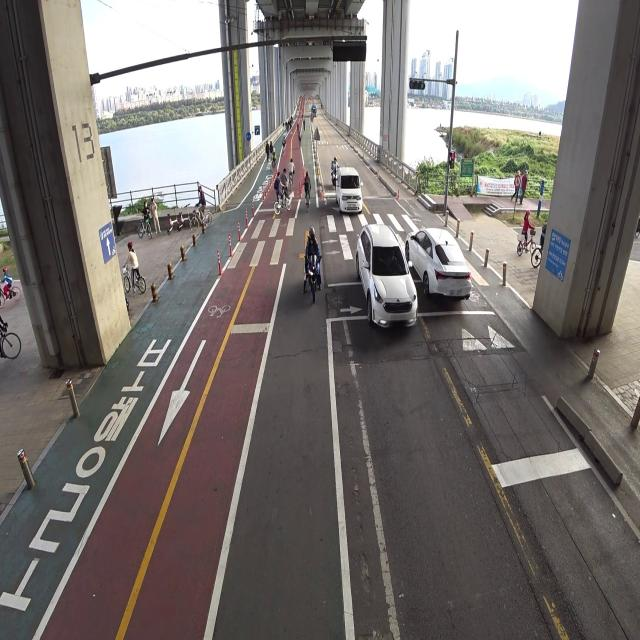Bus: (310, 102, 317, 120)
Car: (353, 218, 422, 340), (406, 209, 478, 307), (334, 162, 365, 219)
Motorcycle: (302, 225, 321, 303), (330, 154, 339, 189)
